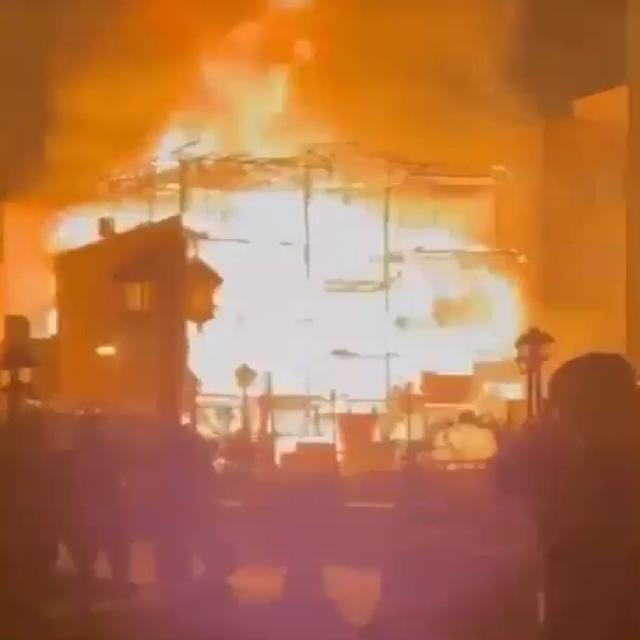Fire: (175, 149, 532, 443)
